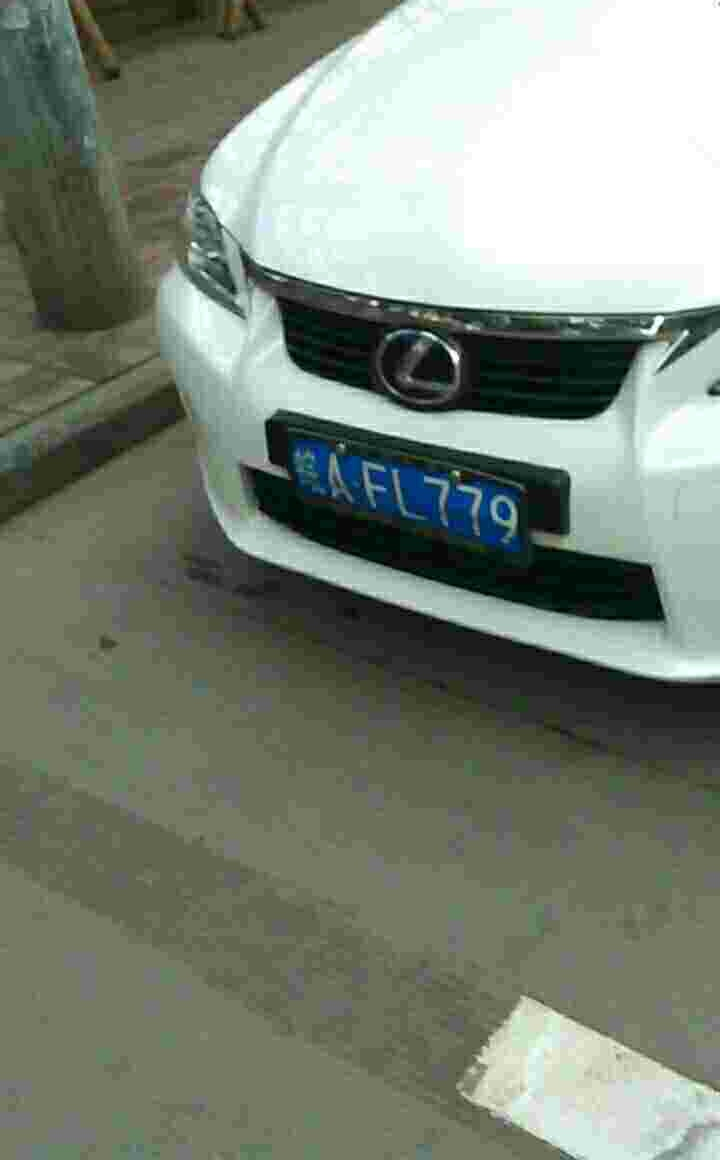license_plate: (290, 429, 523, 557)
